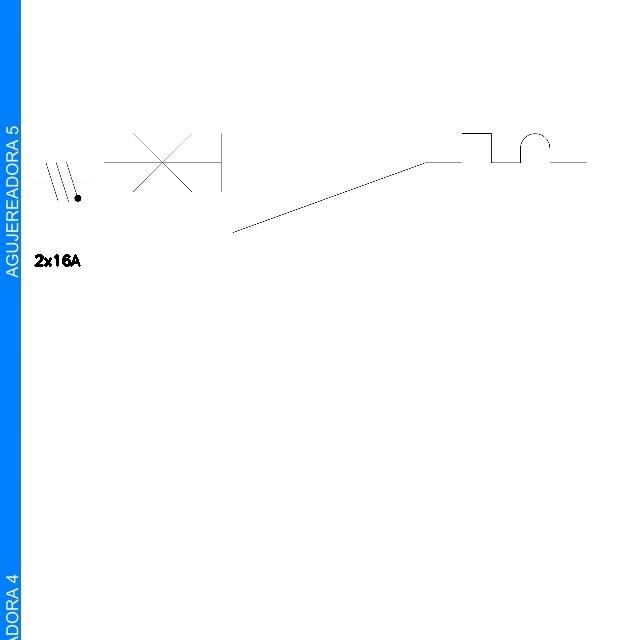interruptor_termomagnetico: (91, 121, 598, 245)
